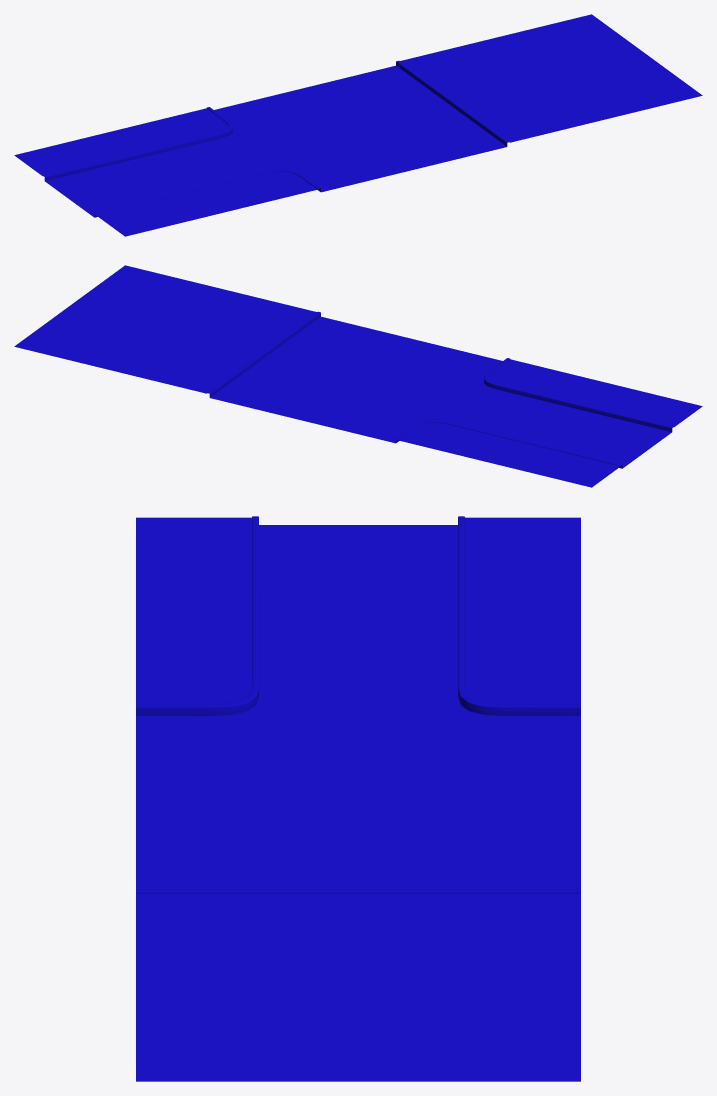
The picture shows the model from 3 angles, top to bottom: view 1: azimuth 30°, elevation 25°; view 2: azimuth 150°, elevation 25°; view 3: azimuth 270°, elevation 25°; orthographic projection. The views are drawn at different scales.
Visible parts, largest first — view 1: R_04; view 2: R_04; view 3: R_04.
Boxes of the visible parts, left/top/right/bottom form: R_04: left=14, top=14, right=702, bottom=236; R_04: left=14, top=265, right=702, bottom=487; R_04: left=136, top=516, right=580, bottom=1081.
Bounding box in the file's own units: 3000 × 21.13 × 1000.
